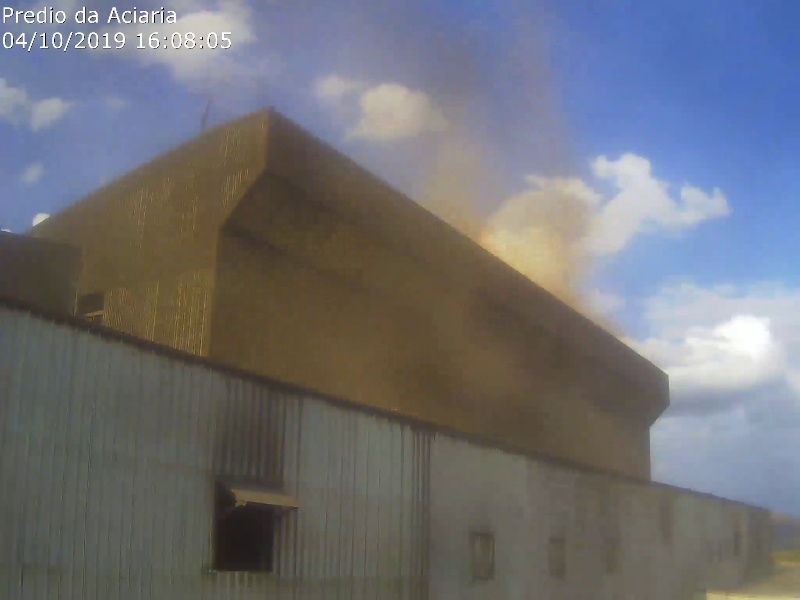bom: (630, 1, 800, 399)
pessimo: (268, 147, 570, 448)
ruim: (330, 21, 553, 136), (186, 1, 409, 115)
